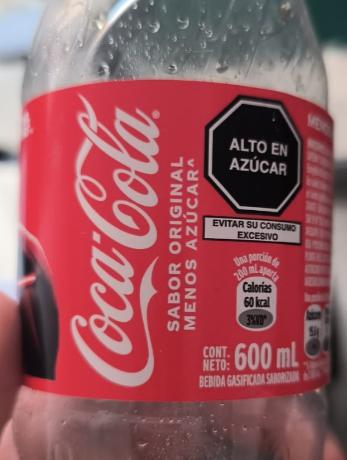brand: (63, 92, 166, 391)
net_weight: (234, 337, 302, 370)
